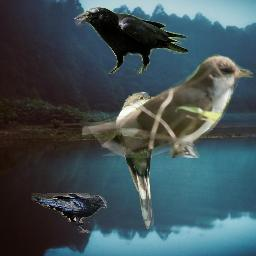Crow: (73, 7, 188, 74), (31, 193, 107, 233)
Cuckoo: (82, 54, 253, 158), (116, 91, 161, 230)
